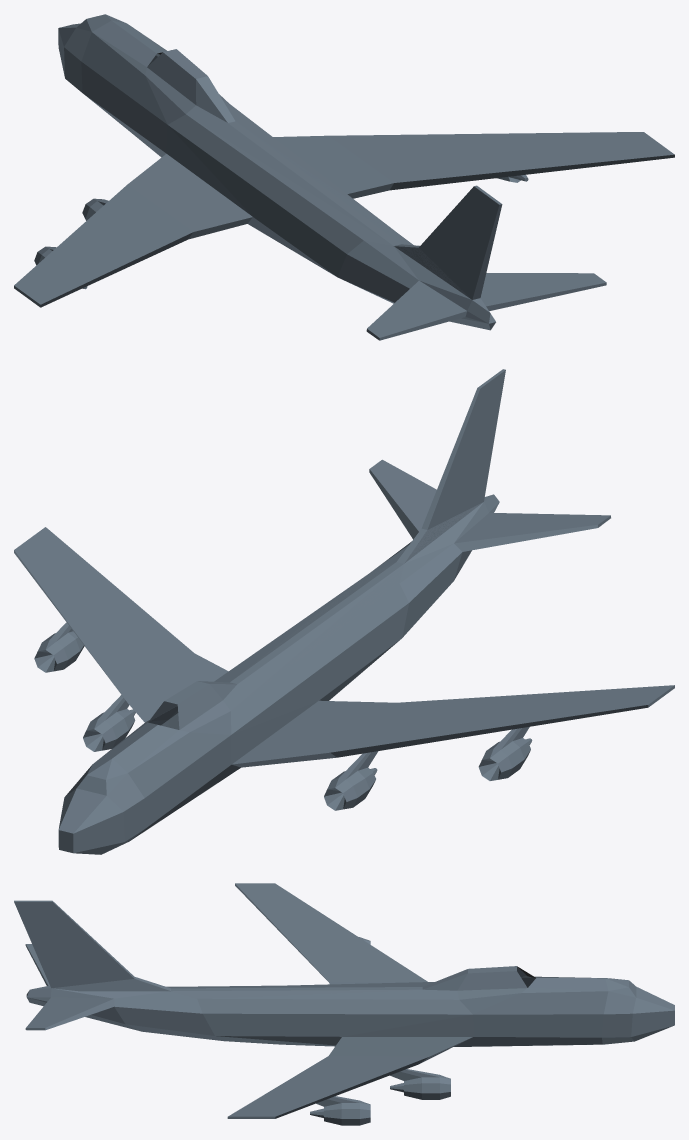
Rendered from AWACS-E4.glb.
The picture shows the model from 3 angles, top to bottom: view 1: azimuth 30°, elevation 25°; view 2: azimuth 150°, elevation 25°; view 3: azimuth 270°, elevation 25°; orthographic projection. The views are drawn at different scales.
Bounding box in the file's own units: 34.26 × 10.52 × 41.02.
